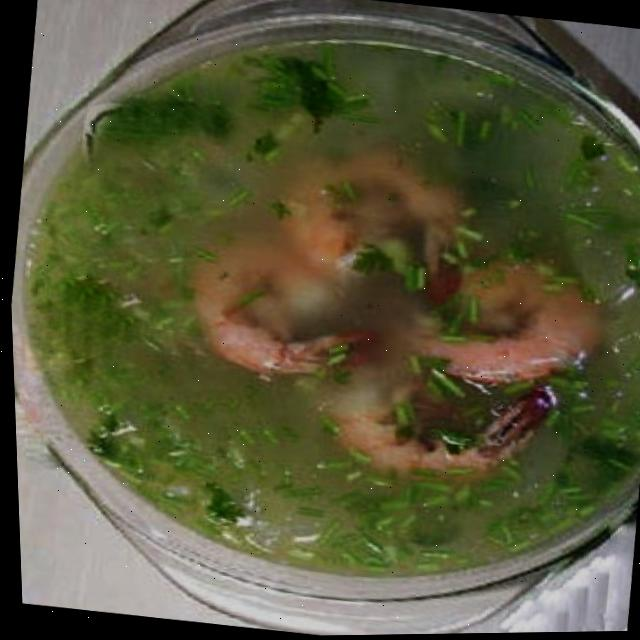汤锅炖物: (1, 16, 640, 608)
